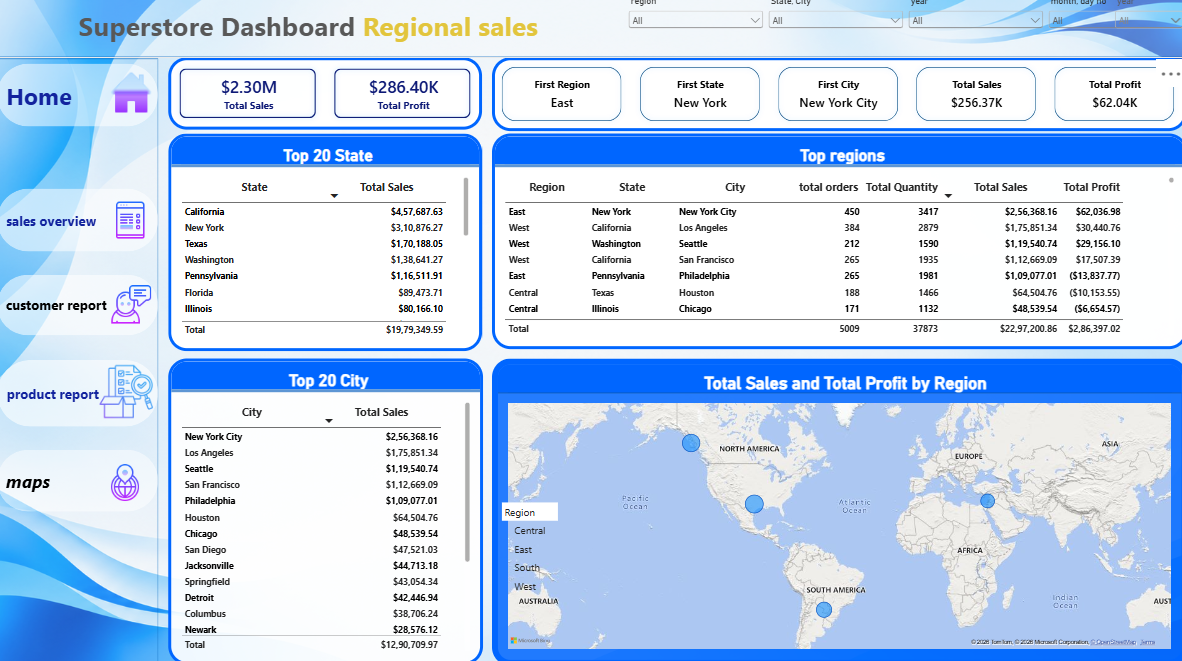

The dashboard page shown, as its layout file describes it:
{"tool":"powerbi","page":{"name":"regional sales","canvas":[1920,1080],"ordinal":5},"visuals":[{"type":"shape","box":[0,0,1920.4,98.8],"z":0,"group":"g1"},{"type":"shape","box":[0,101.5,260.4,978.5],"z":0,"group":"g2"},{"type":"map","fields":{"Category":["Orders.Region"],"Size":["mesure table.Total Sales"]},"box":[798,584,1122,496],"z":1000},{"type":"shape","box":[0,587,260.4,108.1],"z":1000,"group":"g2"},{"type":"cardVisual","fields":{"Data":["mesure table.Total Sales","mesure table.Total Profit"]},"box":[276.4,98.8,506.3,117],"z":2000},{"type":"shape","box":[0,311.8,260.4,102],"z":2000,"group":"g2"},{"type":"shape","box":[0,733.9,260.4,100],"z":3000,"group":"g2"},{"type":"ganttChart","fields":{"Task":["Orders.Region"]},"box":[798.6,802.7,127.6,200.4],"z":3000},{"type":"cardVisual","fields":{"Data":["Min(Orders.Region)","Min(Orders.State)","Min(Orders.City)","mesure table.Total Sales","mesure table.Total Profit"]},"box":[798.6,98.8,1121.8,119.4],"z":4000},{"type":"shape","box":[0,450.3,260.4,97.9],"z":4000,"group":"g2"},{"type":"tableEx","title":"Top regions","fields":{"Values":["Orders.Region","Orders.State","Orders.City","mesure table.total orders","mesure table.Total Quantity","mesure table.Total Sales","mesure table.Total Profit"]},"box":[798,222,1122,348],"z":5000},{"type":"image","box":[165.3,595.2,86.8,86.1],"z":5000,"group":"g2"},{"type":"tableEx","title":"Top 20 State","fields":{"Values":["Orders.State","mesure table.Total Sales"]},"box":[276.4,221.9,506.3,351],"z":6000},{"type":"image","box":[173.6,462.6,86.8,73.4],"z":6000,"group":"g2"},{"type":"tableEx","title":"Top 20 City","fields":{"Values":["Orders.City","mesure table.Total Sales"]},"box":[276.4,585,508.3,494.2],"z":7000},{"type":"image","box":[164.8,749,82.3,73.3],"z":7000,"group":"g2"},{"type":"shape","box":[0,109.6,260,101.9],"z":8000,"group":"g2"},{"type":"shape","box":[0,496.1,224.4,86.4],"z":8000},{"type":"slicer","fields":{"Values":["People.region"]},"box":[1015.1,0,226.7,98.1],"z":9000,"group":"g1"},{"type":"image","box":[172.9,119.8,86.8,73.4],"z":9000,"group":"g2"},{"type":"shape","box":[0,288.2,224.4,78.2],"z":10000},{"type":"image","box":[177,325.3,75.3,73.2],"z":10000,"group":"g2"},{"type":"slicer","fields":{"Values":["date.month","date.day no"]},"box":[1693.3,0,226.7,98.1],"z":11000,"group":"g1"},{"type":"shape","box":[0,584.6,224.4,100.9],"z":12000},{"type":"slicer","fields":{"Values":["Orders.State","Orders.City"]},"box":[1240.9,0,226.7,98.1],"z":13000,"group":"g1"},{"type":"shape","box":[0,391.1,224.4,82.3],"z":14000},{"type":"slicer","fields":{"Values":["date.year"]},"box":[1466.8,0,226.7,98.1],"z":15000,"group":"g1"},{"type":"shape","box":[0,158.5,242.9,92.6],"z":16000},{"type":"slicer","fields":{"Values":["date.year"]},"box":[1799,0,121.4,98.8],"z":17000},{"type":"textbox","box":[100.9,0,802.9,98.8],"z":19000},{"type":"group","id":"g1","title":"Group 2","box":[0,0,1920.4,98.8],"z":19001},{"type":"group","id":"g2","title":"Group 1","box":[0,101.5,260.4,978.5],"z":19002}]}

Visuals, with their boxes on the page's 1920x1080 design canvas (x1, y1, x2, y2). These are canvas units, not pixel positions in the 1182x661 screenshot, which may show the page scaled, cropped or inside an application window:
shape: (left=0, top=0, right=1920, bottom=99)
shape: (left=0, top=102, right=260, bottom=1080)
map - Orders.Region x mesure table.Total Sales: (left=798, top=584, right=1920, bottom=1080)
shape: (left=0, top=587, right=260, bottom=695)
cardVisual - mesure table.Total Sales x mesure table.Total Profit: (left=276, top=99, right=783, bottom=216)
shape: (left=0, top=312, right=260, bottom=414)
shape: (left=0, top=734, right=260, bottom=834)
ganttChart - Orders.Region: (left=799, top=803, right=926, bottom=1003)
cardVisual - Min(Orders.Region) x Min(Orders.State): (left=799, top=99, right=1920, bottom=218)
shape: (left=0, top=450, right=260, bottom=548)
"Top regions" tableEx: (left=798, top=222, right=1920, bottom=570)
image: (left=165, top=595, right=252, bottom=681)
"Top 20 State" tableEx: (left=276, top=222, right=783, bottom=573)
image: (left=174, top=463, right=260, bottom=536)
"Top 20 City" tableEx: (left=276, top=585, right=785, bottom=1079)
image: (left=165, top=749, right=247, bottom=822)
shape: (left=0, top=110, right=260, bottom=212)
shape: (left=0, top=496, right=224, bottom=582)
slicer - People.region: (left=1015, top=0, right=1242, bottom=98)
image: (left=173, top=120, right=260, bottom=193)
shape: (left=0, top=288, right=224, bottom=366)
image: (left=177, top=325, right=252, bottom=398)
slicer - date.month x date.day no: (left=1693, top=0, right=1920, bottom=98)
shape: (left=0, top=585, right=224, bottom=686)
slicer - Orders.State x Orders.City: (left=1241, top=0, right=1468, bottom=98)
shape: (left=0, top=391, right=224, bottom=473)
slicer - date.year: (left=1467, top=0, right=1694, bottom=98)
shape: (left=0, top=158, right=243, bottom=251)
slicer - date.year: (left=1799, top=0, right=1920, bottom=99)
textbox: (left=101, top=0, right=904, bottom=99)
"Group 2" group: (left=0, top=0, right=1920, bottom=99)
"Group 1" group: (left=0, top=102, right=260, bottom=1080)
